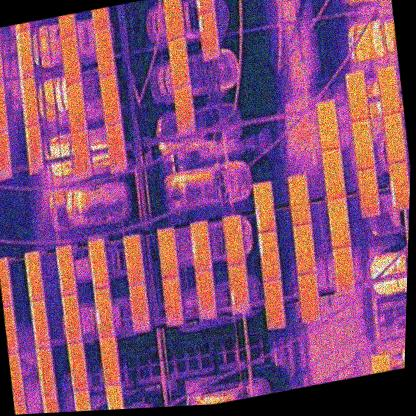Diode: (195, 9, 223, 63), (255, 229, 283, 282), (250, 181, 278, 233), (384, 159, 411, 211), (187, 221, 214, 273), (226, 262, 252, 316), (22, 121, 46, 175), (92, 285, 116, 338), (17, 74, 40, 127), (13, 28, 35, 80)
Hotspot: (86, 236, 111, 289)
Normal: (259, 279, 288, 332), (165, 34, 192, 90), (342, 70, 371, 122), (329, 244, 358, 296), (319, 147, 347, 200), (290, 222, 318, 275), (294, 272, 323, 323), (220, 213, 247, 267), (325, 195, 352, 249), (192, 268, 219, 322), (314, 98, 342, 150), (354, 166, 381, 219), (91, 24, 117, 79), (57, 32, 83, 87), (171, 83, 197, 137), (381, 111, 408, 163), (285, 174, 312, 226), (104, 120, 129, 176), (160, 274, 185, 329), (350, 118, 376, 170), (154, 227, 180, 279), (375, 64, 401, 115), (69, 128, 94, 181), (33, 344, 58, 397), (63, 80, 88, 132), (54, 244, 79, 296), (121, 234, 146, 286), (99, 72, 123, 126), (127, 282, 151, 336), (27, 299, 52, 350), (97, 334, 121, 386), (22, 251, 45, 302), (60, 293, 83, 344), (66, 342, 88, 392), (161, 0, 187, 42), (0, 128, 14, 182), (103, 381, 125, 410), (0, 82, 10, 134), (72, 389, 93, 412), (41, 392, 63, 413), (0, 34, 5, 86)
